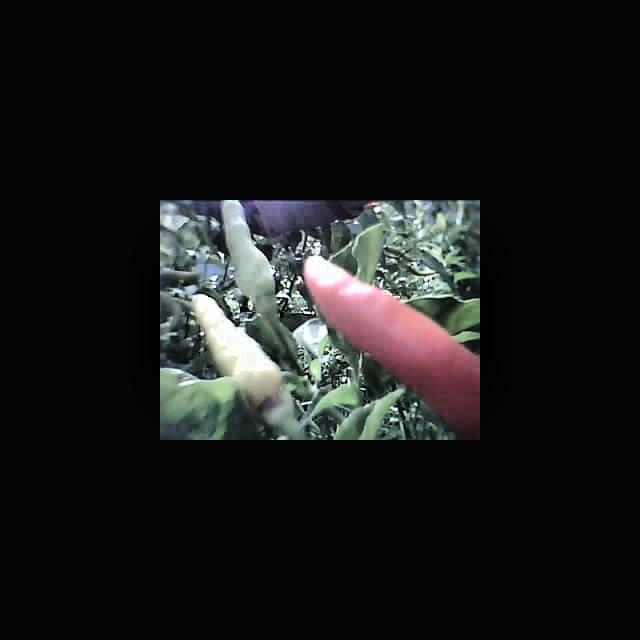Cabai: (315, 264, 480, 395)
